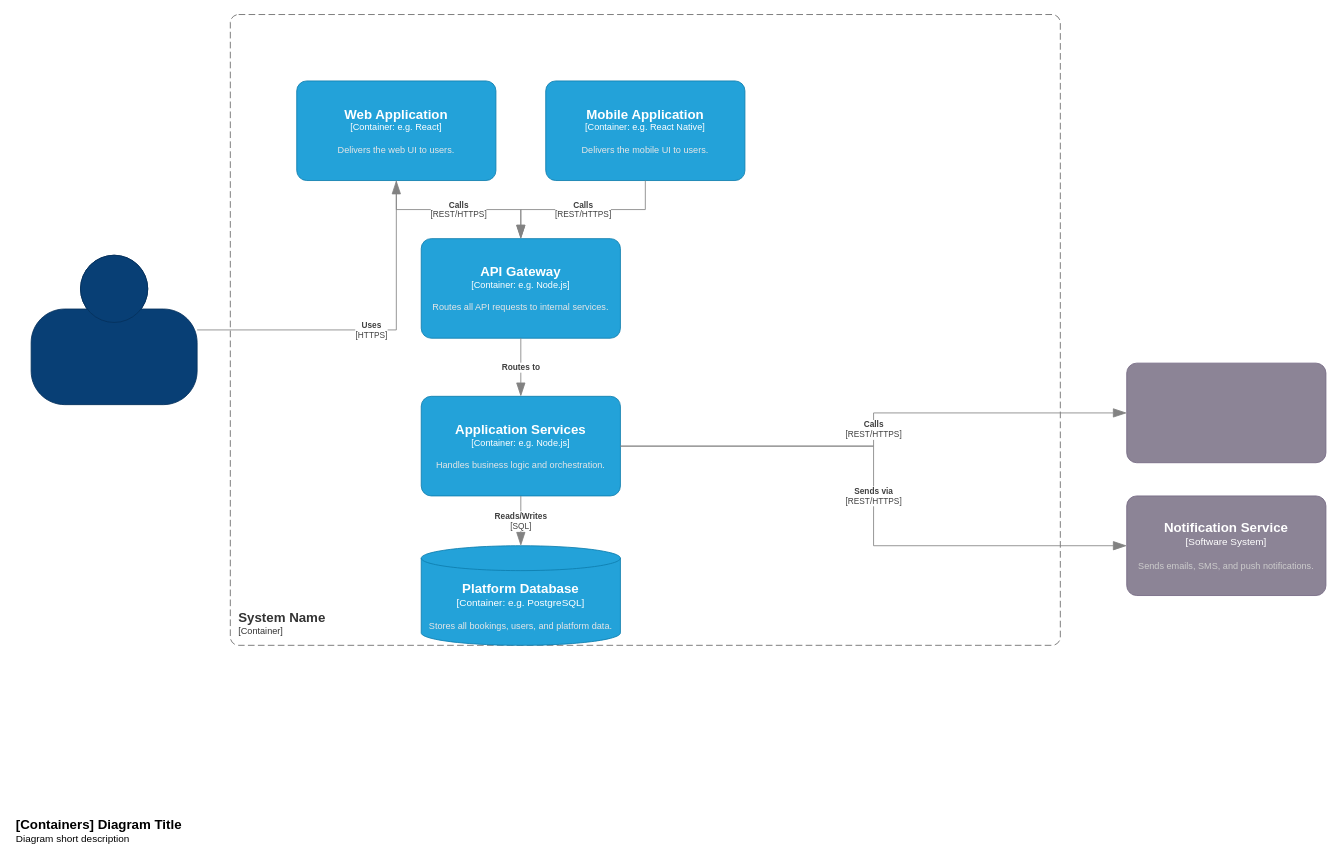
The diagram is 1340 pixels wide and 860 high, and some of its shapes have lost their labels. Here are the shapes that lost their labels. From the top down, the centre of each, then its label:
the point at 113,329: Actor Name [Person] Description of actor's role.
the point at 1226,412: Payment Provider [Software System] Processes payments and refunds.
